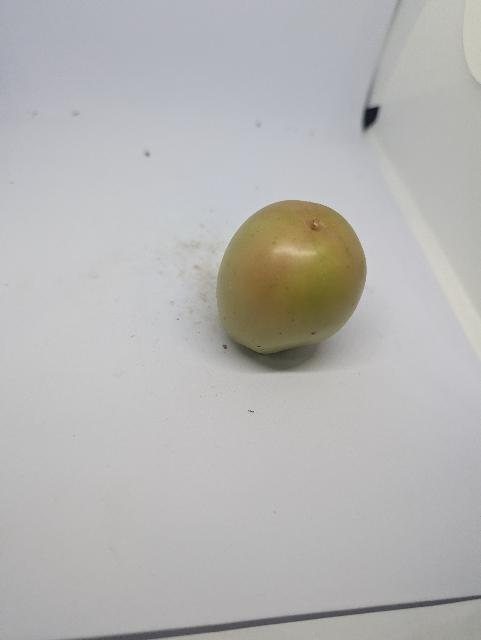turning: (215, 197, 373, 365)
